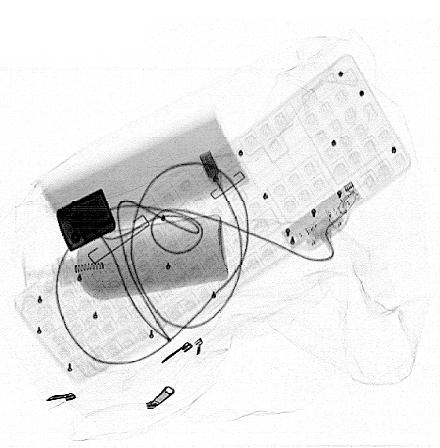Lighter: (56, 188, 116, 252)
